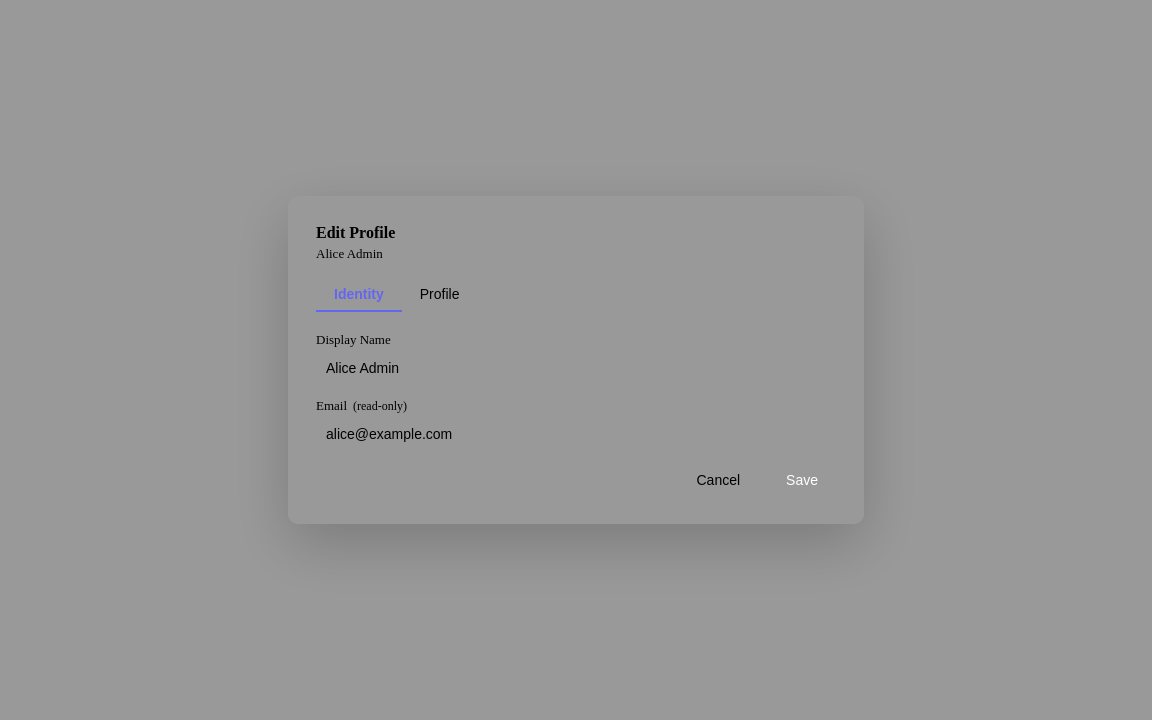
it: EditProfileModal — two-tab layout › clicking Profile tab shows UPS sections (Req 2.3)
Click the tab "Profile" at [440, 295], box top-left (402, 278), bottom-right (478, 312)
(page scrolled)
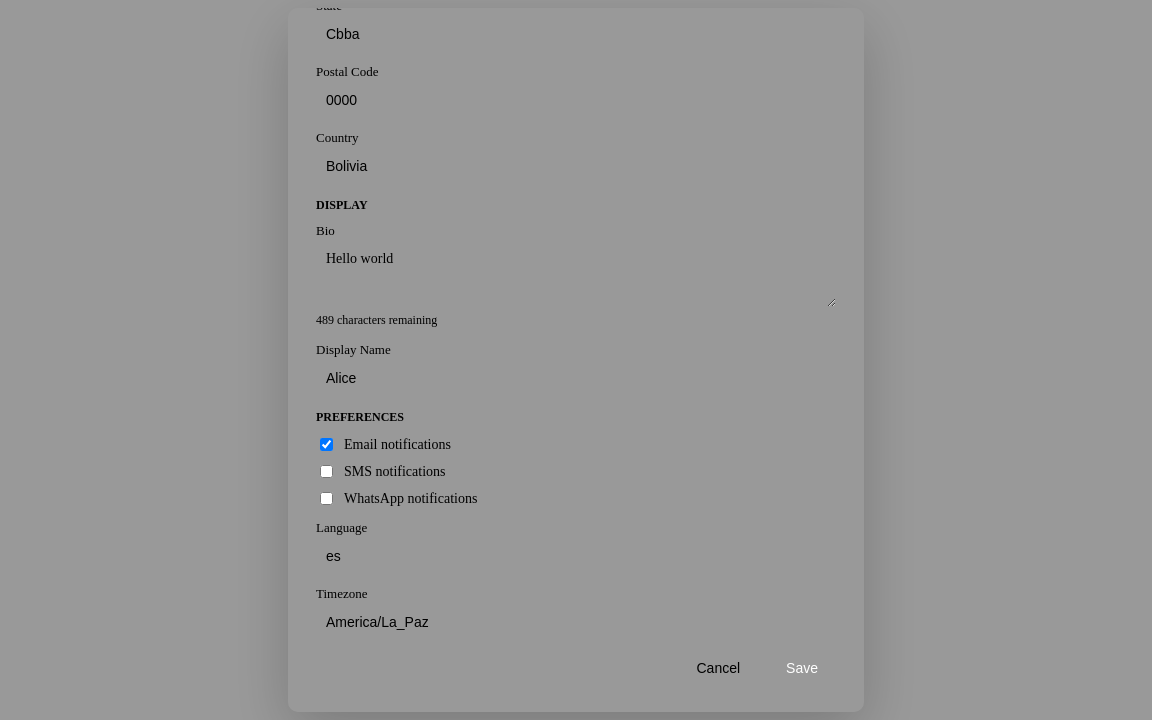
Now the text "Display" is shown, box top-left (316, 198), bottom-right (368, 212)
Now the text "Preferences" is shown, box top-left (316, 410), bottom-right (404, 424)
